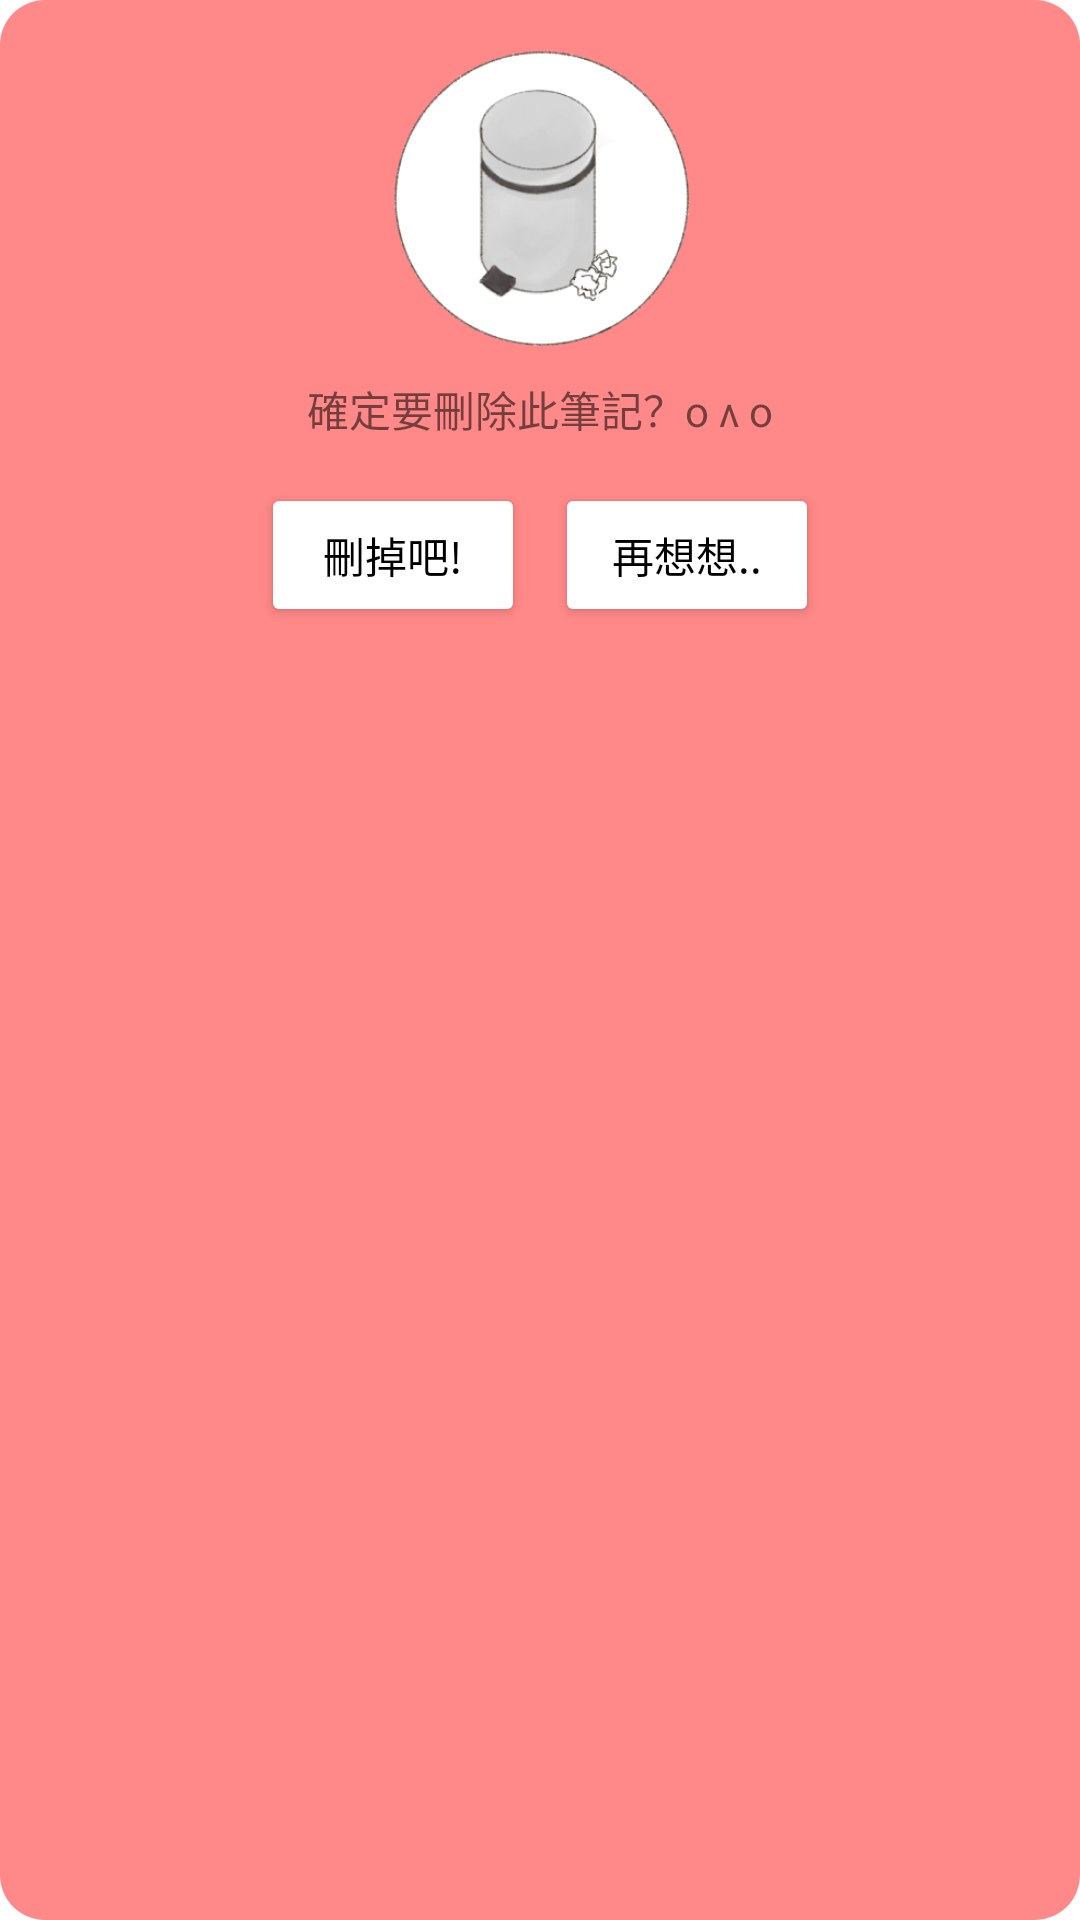

Icons on this 1080w x 1920h Android screen, each with its box as (x1,y1,x2,y2):
trashcan: (394,51,689,346)
